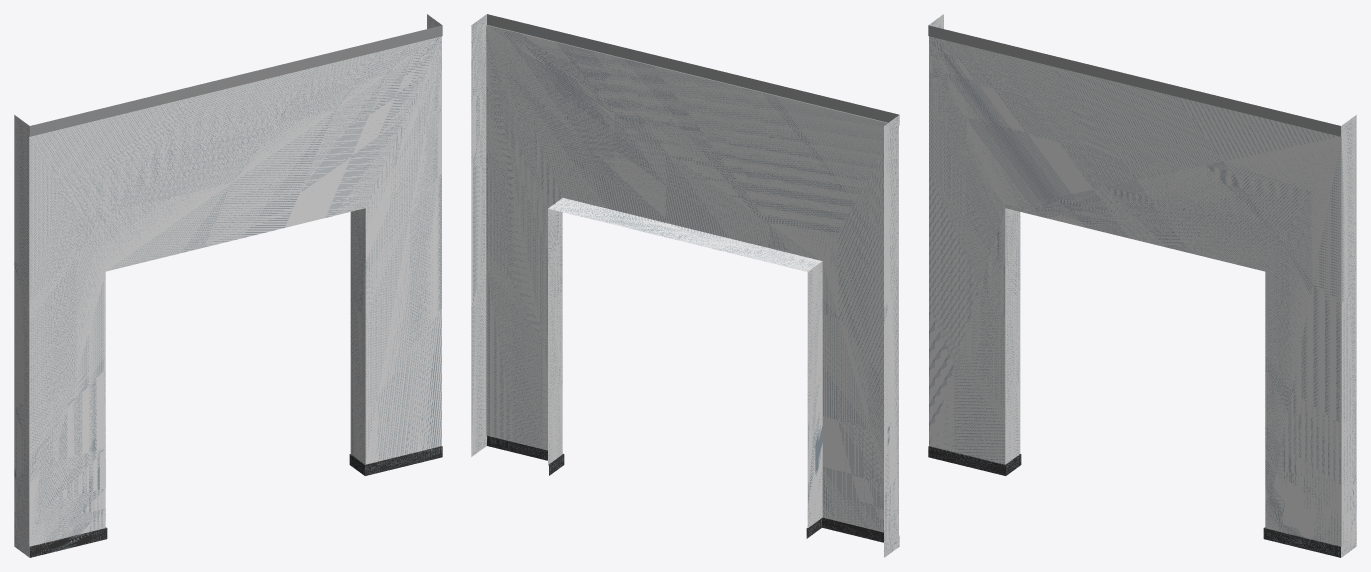
The model's file is BlockWall_os_plinth_[400x400x025]_252x247_double_doorway.dae.
3 renders of one model, left to right at view 1: azimuth 30°, elevation 25°; view 2: azimuth 150°, elevation 25°; view 3: azimuth 330°, elevation 25°, orthographic.
Visible parts, largest first — view 1: group_0 (×4); view 2: group_0 (×4); view 3: group_0 (×4).
Part boxes in pixels (x1=…): group_0 (×4): x1=14, y1=14, x2=442, y2=557; group_0 (×4): x1=471, y1=14, x2=899, y2=557; group_0 (×4): x1=928, y1=14, x2=1356, y2=557.
Size of the model in its own units: 157 by 10.24 by 157.
